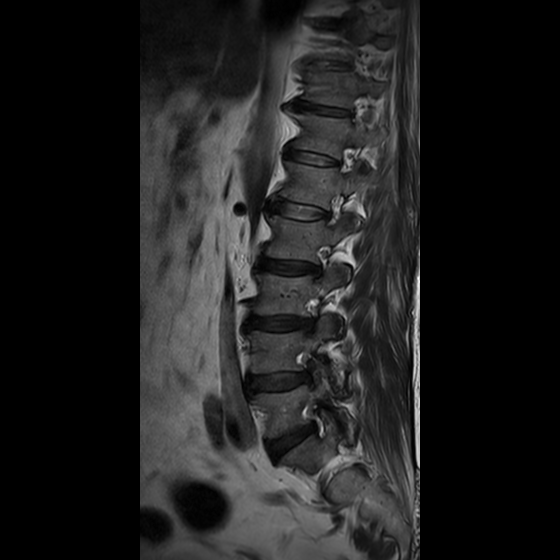RFS0: (304, 237, 337, 290), (317, 185, 350, 233)
RFS2: (294, 401, 333, 448)
RFS3: (287, 343, 326, 390)
